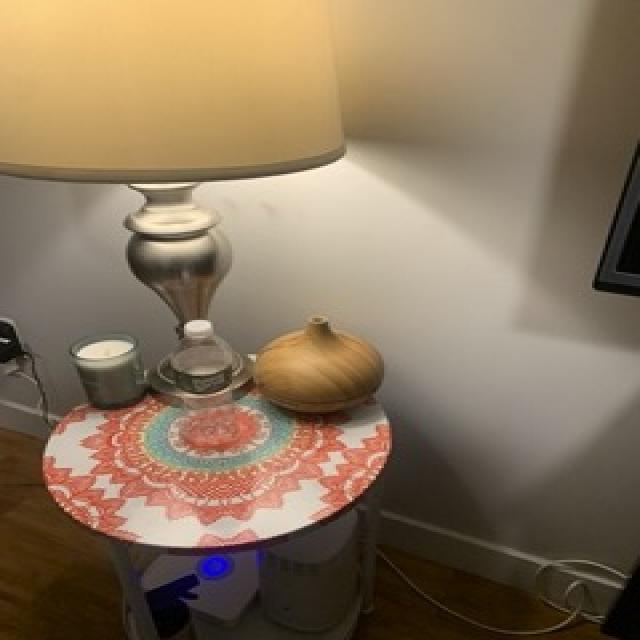water_bottle: (181, 321, 237, 445)
